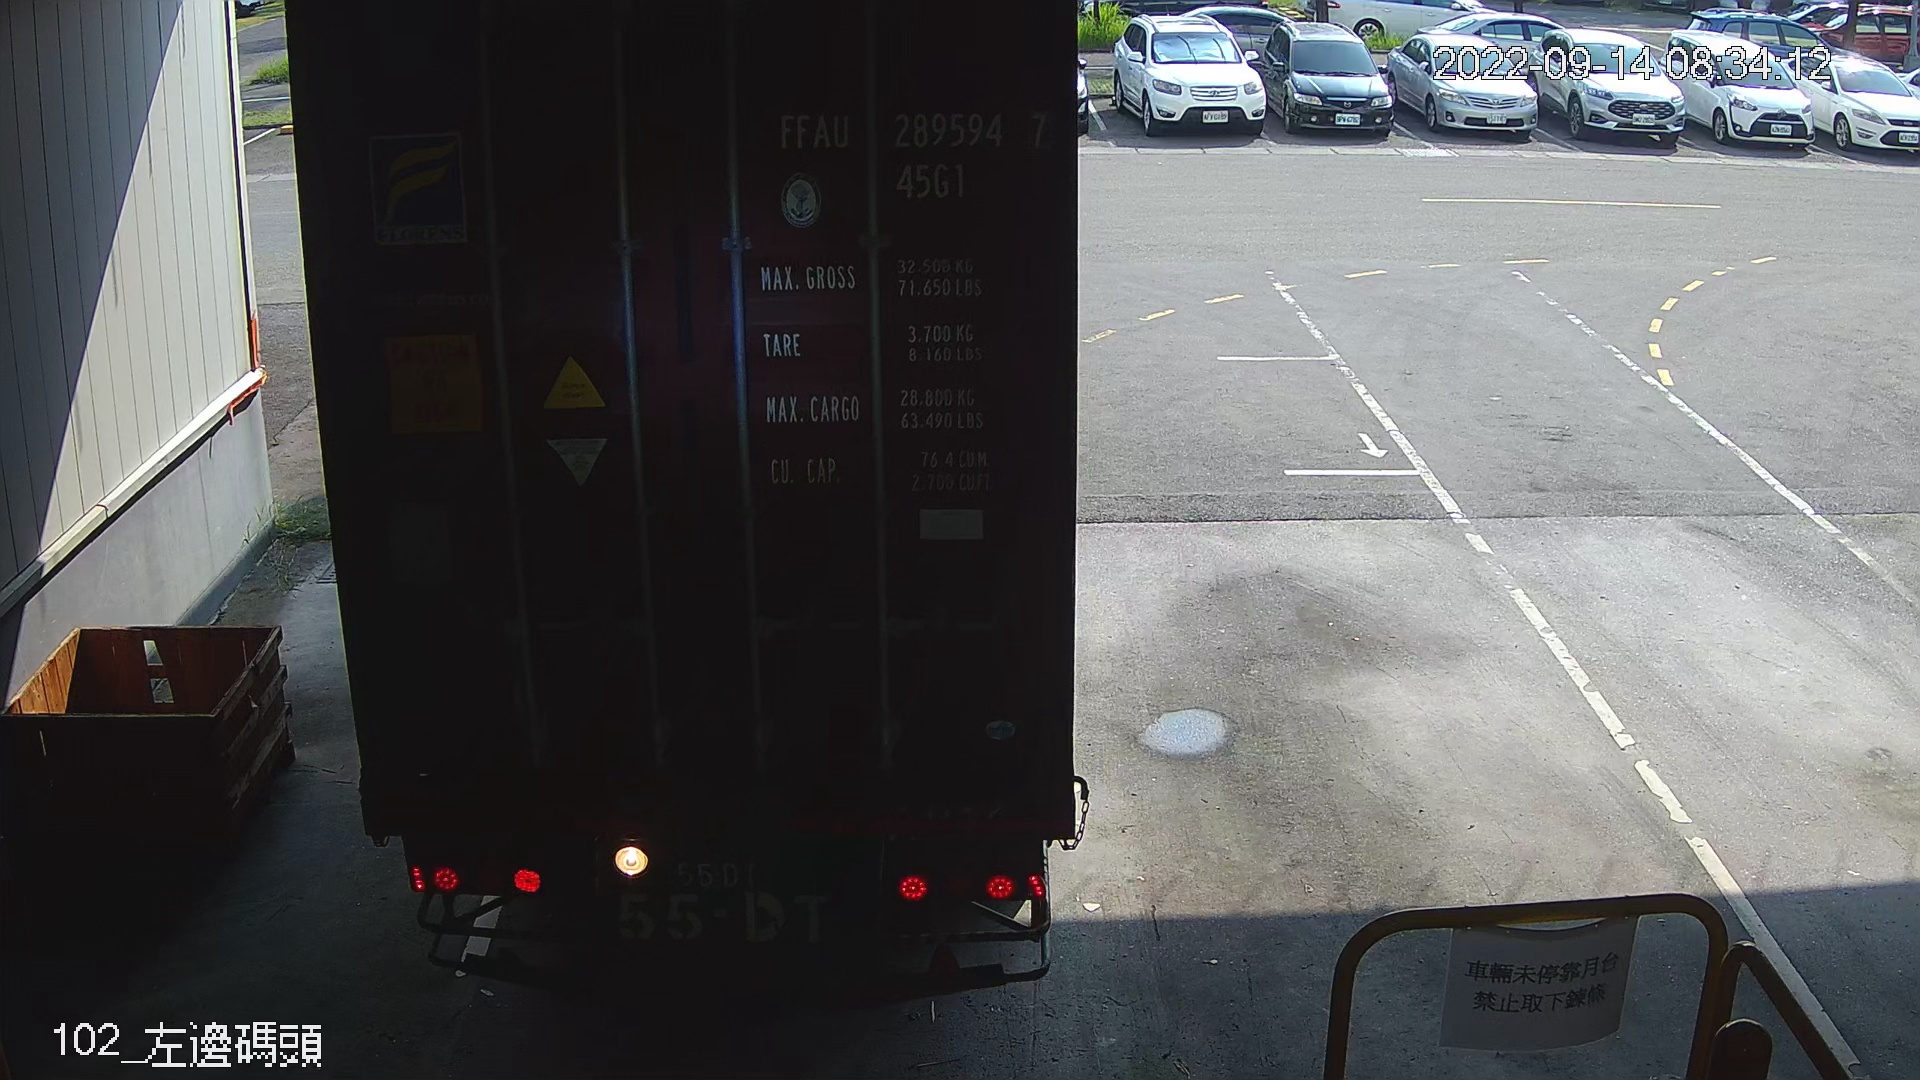container: (769, 98, 1059, 216)
